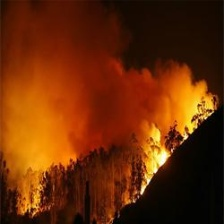fire: (122, 90, 217, 215), (13, 160, 61, 221)
smoke: (9, 19, 139, 141)
